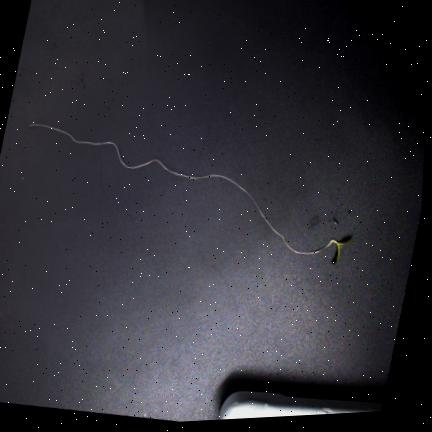leaf1: (334, 248, 340, 265)
leaf2: (340, 241, 356, 245)
leaf3: (339, 244, 342, 249)
root: (29, 125, 327, 254)
stem: (327, 240, 340, 247)
